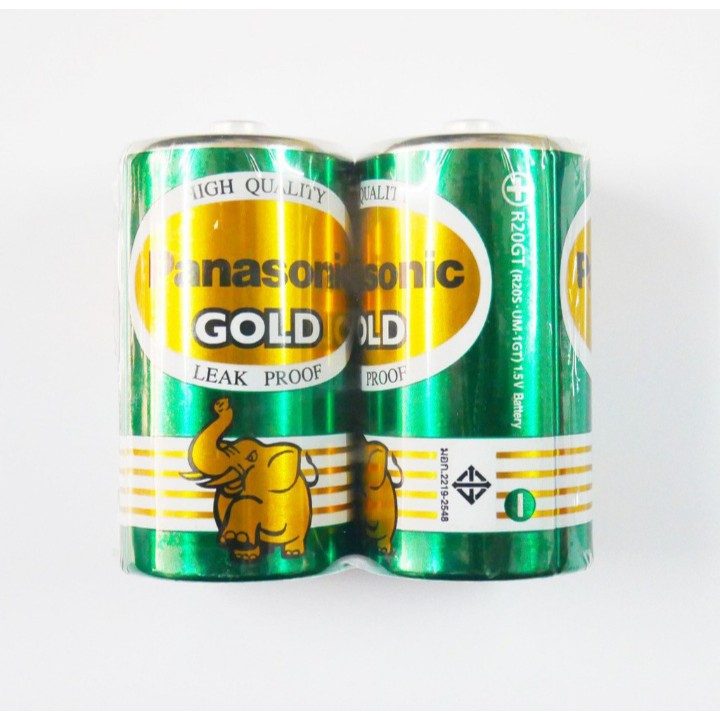Battery: (355, 115, 601, 586), (123, 119, 353, 584)
